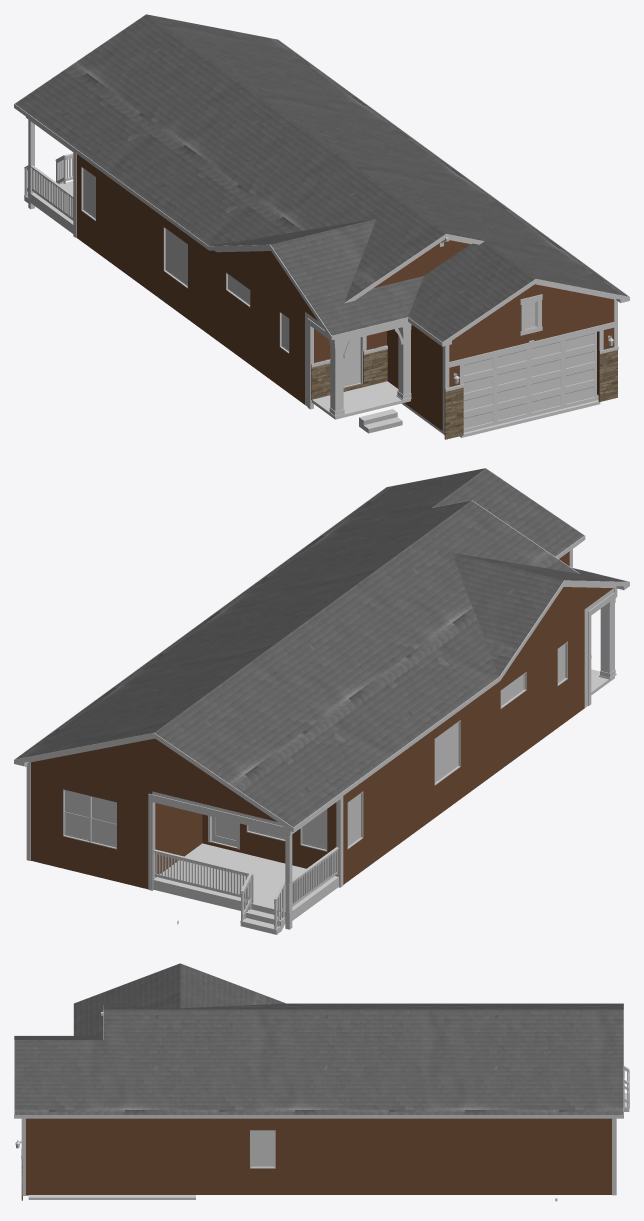
File: mvphome.glb
The picture shows the model from 3 angles, top to bottom: view 1: azimuth 30°, elevation 25°; view 2: azimuth 150°, elevation 25°; view 3: azimuth 270°, elevation 25°; orthographic projection. The views are drawn at different scales.
Visible parts, largest first — view 1: Basic Roof Wood Rafter 4" - Asphalt Shingle - Insulated_2f40, Basic Wall BSB Exterior - Stud_3.5" - Sheathing_0.5" - _a010, Traditional - BSB Exterior - Overhead Garage Door - Clo_bff0, Basic Roof Wood Rafter 4" - Asphalt Shingle - Insulated_5ff0, Basic Wall BSB Exterior - Stud_3.5" - Sheathing_0.5" - _44ac, Fascia Fascia-Flat 1x6 w/12" Soffit Bd [4317748], Basic Wall BSB Exterior - Stud_3.5" - Sheathing_0.5" - _330f, Basic Wall BSB Exterior - Stud_3.5" - Sheathing_0.5" - _65a5, Basic Wall BSB Exterior - Stud_3.5" - Sheathing_0.5" - _ab2a, Basic Wall BSB Exterior - Stud_1.5" - Sheathing_0.5" - _2815, Basic Wall BSB Exterior - Stone Veneer_2" [4311974], Basic Wall BSB Exterior - Stud_3.5" - Sheathing_0.5" - _5f2e (+14 smaller); view 2: Basic Roof Wood Rafter 4" - Asphalt Shingle - Insulated_2f40, Basic Wall BSB Exterior - Stud_3.5" - Sheathing_0.5" - _a010, Basic Wall BSB Exterior - Stud_3.5" - Sheathing_0.5" - _e5d4, Basic Roof Wood Rafter 4" - Asphalt Shingle - Insulated_5ff0, Basic Wall BSB Exterior - Stud_3.5" - Sheathing_0.5" - _7def, Basic Wall BSB Exterior - Stud_3.5" - Sheathing_0.5" - _44ac, Floor Decking - 2x12 w/ 5/4x6 Decking [4432810], Fascia Fascia-Flat 1x6 w/12" Soffit Bd [4317748], Basic Wall BSB Exterior - Stud_3.5" - Sheathing_0.5" - _ab2a, Basic Wall BSB Exterior - Stud_3.5" - Sheathing_0.5" - _a39f, Basic Wall BSB Exterior - Stud_3.5" - Sheathing_0.5" - _99a9, Trim - Corner Boards Trim - Corner Boards [4308503] (+11 smaller); view 3: Basic Roof Wood Rafter 4" - Asphalt Shingle - Insulated_2f40, Basic Wall BSB Exterior - Stud_3.5" - Sheathing_0.5" - _4cd1, Basic Wall BSB Exterior - Stud_3.5" - Sheathing_0.5" - _eddb, Basic Roof Wood Rafter 4" - Asphalt Shingle - Insulated_5ff0, Basic Wall BSB Exterior - Stud_3.5" - Sheathing_0.5" - _428d, Fascia Fascia-Flat 1x6 w/12" Soffit Bd [4317748], BSB Single Hung 3050 SH w/ Sill [4265274], Floor BSB Concrete Slab - 4" - Slope Option [4274134], Trim - Corner Boards Trim - Corner Boards [4308503].
Boxes of the visible parts, x1,y1,x2,y2 form: Basic Roof Wood Rafter 4" - Asphalt Shingle - Insulated_2f40: [15, 14, 628, 341]; Basic Wall BSB Exterior - Stud_3.5" - Sheathing_0.5" - _a010: [76, 154, 206, 332]; Traditional - BSB Exterior - Overhead Garage Door - Clo_bff0: [463, 332, 598, 432]; Basic Roof Wood Rafter 4" - Asphalt Shingle - Insulated_5ff0: [211, 219, 423, 335]; Basic Wall BSB Exterior - Stud_3.5" - Sheathing_0.5" - _44ac: [206, 249, 268, 377]; Fascia Fascia-Flat 1x6 w/12" Soffit Bd [4317748]: [14, 14, 629, 346]; Basic Wall BSB Exterior - Stud_3.5" - Sheathing_0.5" - _330f: [449, 299, 613, 395]; Basic Wall BSB Exterior - Stud_3.5" - Sheathing_0.5" - _65a5: [387, 324, 442, 430]; Basic Wall BSB Exterior - Stud_3.5" - Sheathing_0.5" - _ab2a: [268, 285, 304, 404]; Basic Wall BSB Exterior - Stud_1.5" - Sheathing_0.5" - _2815: [458, 284, 611, 336]; Basic Wall BSB Exterior - Stone Veneer_2" [4311974]: [444, 347, 617, 439]; Basic Wall BSB Exterior - Stud_3.5" - Sheathing_0.5" - _5f2e: [224, 251, 317, 320]; Basic Roof Wood Rafter 4" - Asphalt Shingle - Insulated_2f40: [15, 468, 584, 827]; Basic Wall BSB Exterior - Stud_3.5" - Sheathing_0.5" - _a010: [343, 695, 480, 884]; Basic Wall BSB Exterior - Stud_3.5" - Sheathing_0.5" - _e5d4: [31, 762, 152, 889]; Basic Roof Wood Rafter 4" - Asphalt Shingle - Insulated_5ff0: [452, 553, 627, 676]; Basic Wall BSB Exterior - Stud_3.5" - Sheathing_0.5" - _7def: [32, 738, 277, 821]; Basic Wall BSB Exterior - Stud_3.5" - Sheathing_0.5" - _44ac: [480, 638, 545, 783]; Floor Decking - 2x12 w/ 5/4x6 Decking [4432810]: [153, 843, 338, 920]; Fascia Fascia-Flat 1x6 w/12" Soffit Bd [4317748]: [15, 468, 628, 831]; Basic Wall BSB Exterior - Stud_3.5" - Sheathing_0.5" - _ab2a: [545, 609, 584, 736]; Basic Wall BSB Exterior - Stud_3.5" - Sheathing_0.5" - _a39f: [202, 802, 336, 875]; Basic Wall BSB Exterior - Stud_3.5" - Sheathing_0.5" - _99a9: [155, 803, 202, 877]; Trim - Corner Boards Trim - Corner Boards [4308503]: [26, 549, 616, 890]; Basic Roof Wood Rafter 4" - Asphalt Shingle - Insulated_2f40: [14, 1003, 623, 1114]; Basic Wall BSB Exterior - Stud_3.5" - Sheathing_0.5" - _4cd1: [197, 1118, 611, 1194]; Basic Wall BSB Exterior - Stud_3.5" - Sheathing_0.5" - _eddb: [95, 1118, 196, 1194]; Basic Roof Wood Rafter 4" - Asphalt Shingle - Insulated_5ff0: [74, 963, 285, 1037]; Basic Wall BSB Exterior - Stud_3.5" - Sheathing_0.5" - _428d: [26, 1118, 95, 1194]; Fascia Fascia-Flat 1x6 w/12" Soffit Bd [4317748]: [14, 963, 623, 1118]; BSB Single Hung 3050 SH w/ Sill [4265274]: [250, 1130, 275, 1168]; Floor BSB Concrete Slab - 4" - Slope Option [4274134]: [23, 1195, 195, 1199]; Trim - Corner Boards Trim - Corner Boards [4308503]: [21, 1118, 616, 1195].
Size of the model in its own units: 9.49 by 7.32 by 22.09.
3 materials, 2 textured.
